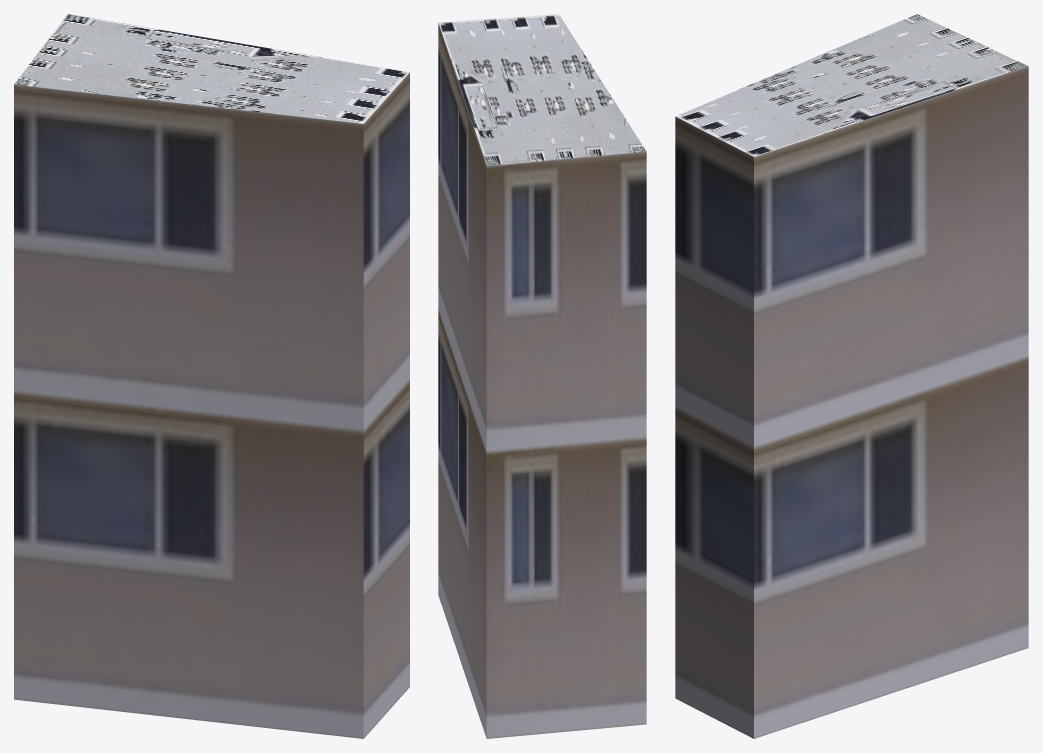
The model's file is ResTex__3558.fbx.
The picture shows the model from 3 angles, left to right: view 1: azimuth 30°, elevation 25°; view 2: azimuth 150°, elevation 25°; view 3: azimuth 270°, elevation 25°; orthographic projection. The views are drawn at different scales.
Visible parts, largest first — view 1: CityEngineMaterial_21_m, CityEngineMaterial_8_m; view 2: CityEngineMaterial_21_m, CityEngineMaterial_8_m; view 3: CityEngineMaterial_21_m, CityEngineMaterial_8_m.
Part boxes in pixels (x1,y1,x2,y2): CityEngineMaterial_21_m: (14,72,409,738); CityEngineMaterial_8_m: (14,14,409,123); CityEngineMaterial_21_m: (438,23,646,738); CityEngineMaterial_8_m: (438,14,646,165); CityEngineMaterial_21_m: (675,66,1028,738); CityEngineMaterial_8_m: (675,14,1027,156).
Bounding box in the file's own units: 3.16 × 6 × 3.3.
2 materials, 2 textured.
